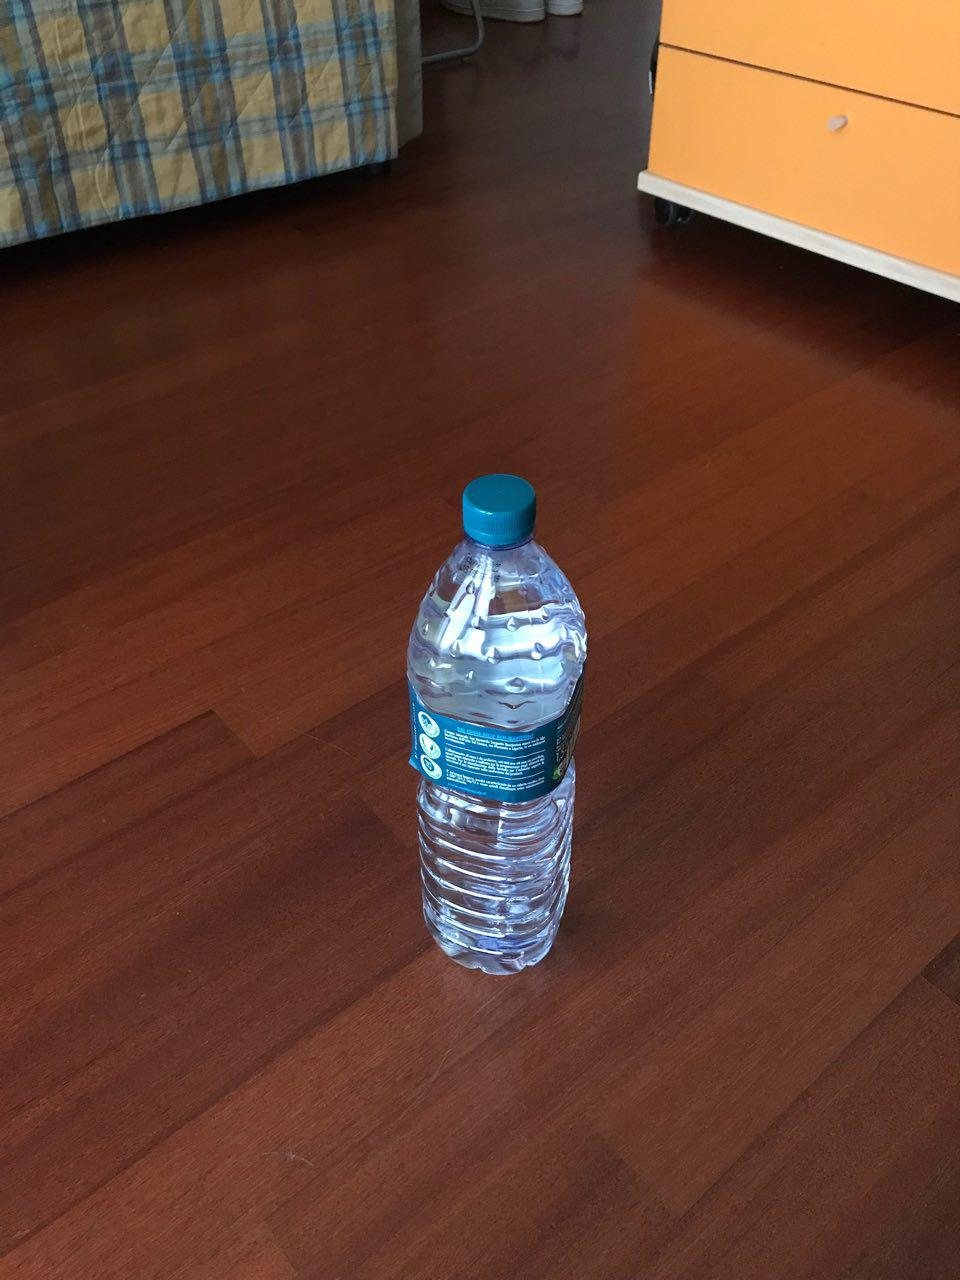san_bernardo: (404, 470, 591, 978)
